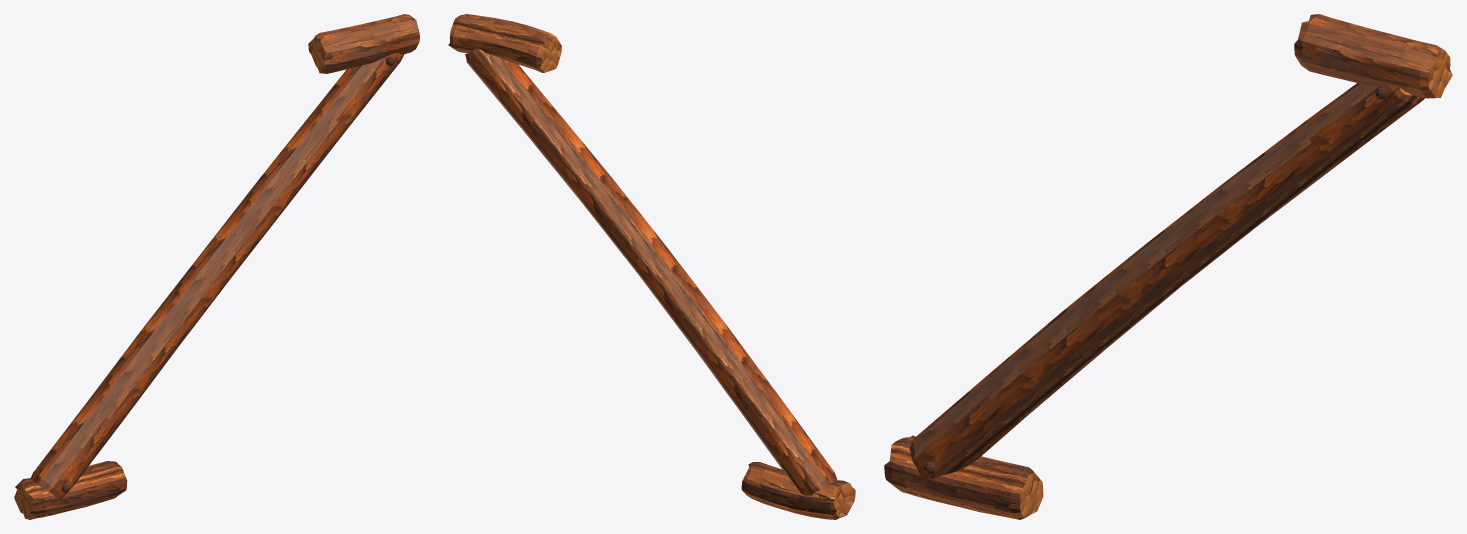
The model's file is brace__plank_root.glb.
The picture shows the model from 3 angles, left to right: view 1: azimuth 30°, elevation 25°; view 2: azimuth 150°, elevation 25°; view 3: azimuth 330°, elevation 25°; orthographic projection. The views are drawn at different scales.
Visible parts, largest first — view 1: model; view 2: model; view 3: model.
Boxes of the visible parts, bbox=[...] form: model: bbox=[14, 14, 419, 519]; model: bbox=[448, 14, 855, 519]; model: bbox=[884, 14, 1452, 519].
Size of the model in its own units: 1.96 by 1.98 by 0.2059.
Materials: 10 (10 with a texture image).
